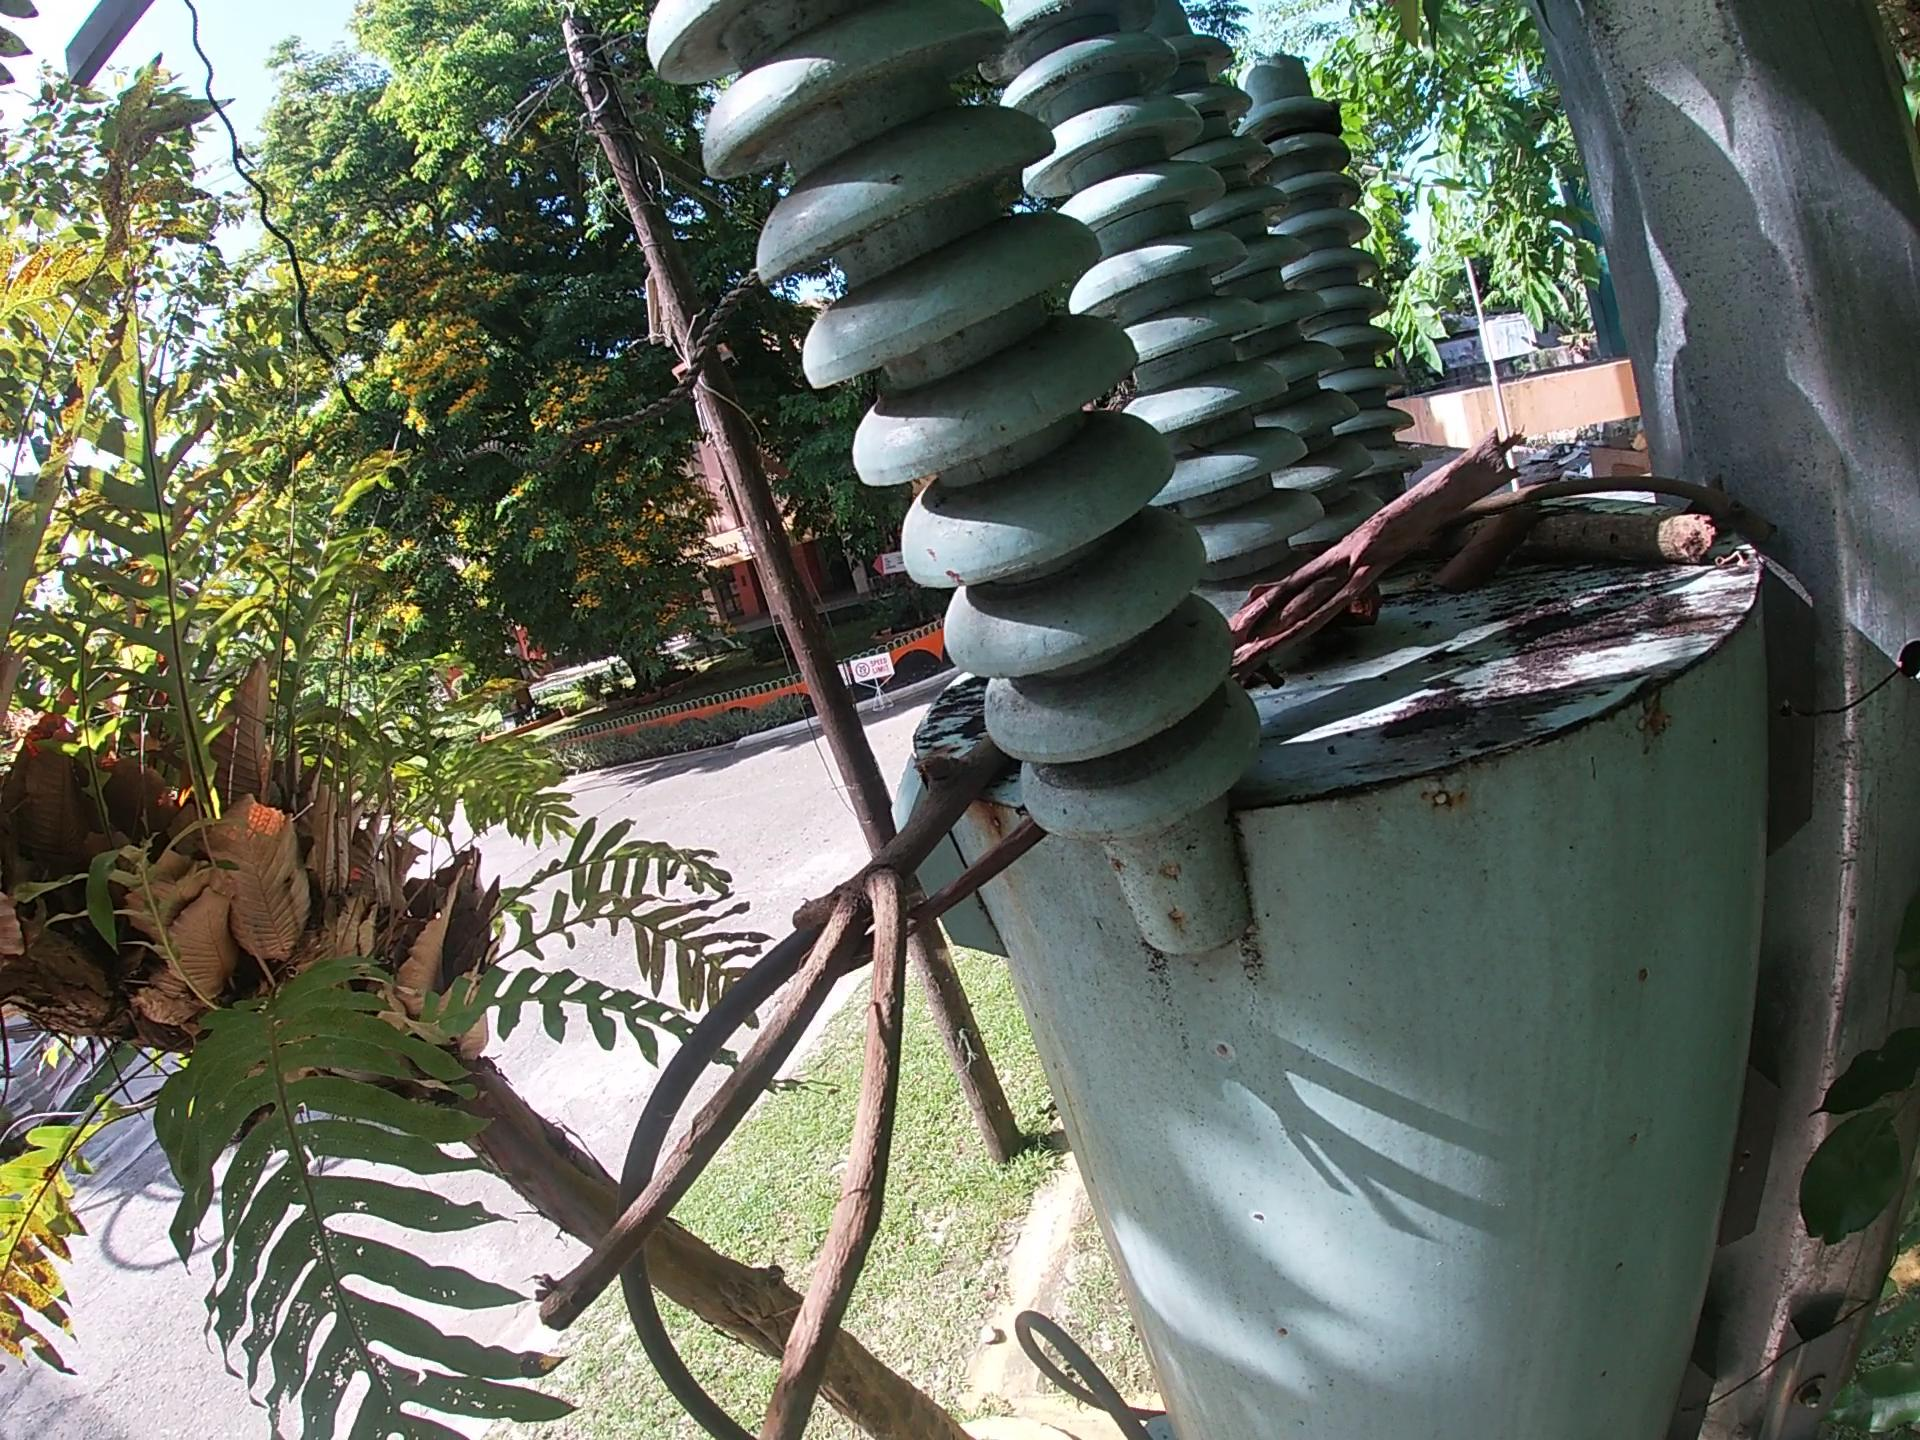leaf: (1433, 492, 1544, 590)
mahogany fruit: (1350, 591, 1401, 659)
tree branch: (463, 718, 1022, 1438), (1229, 413, 1538, 681), (897, 826, 1052, 948), (1500, 504, 1723, 563), (1510, 467, 1767, 507)
